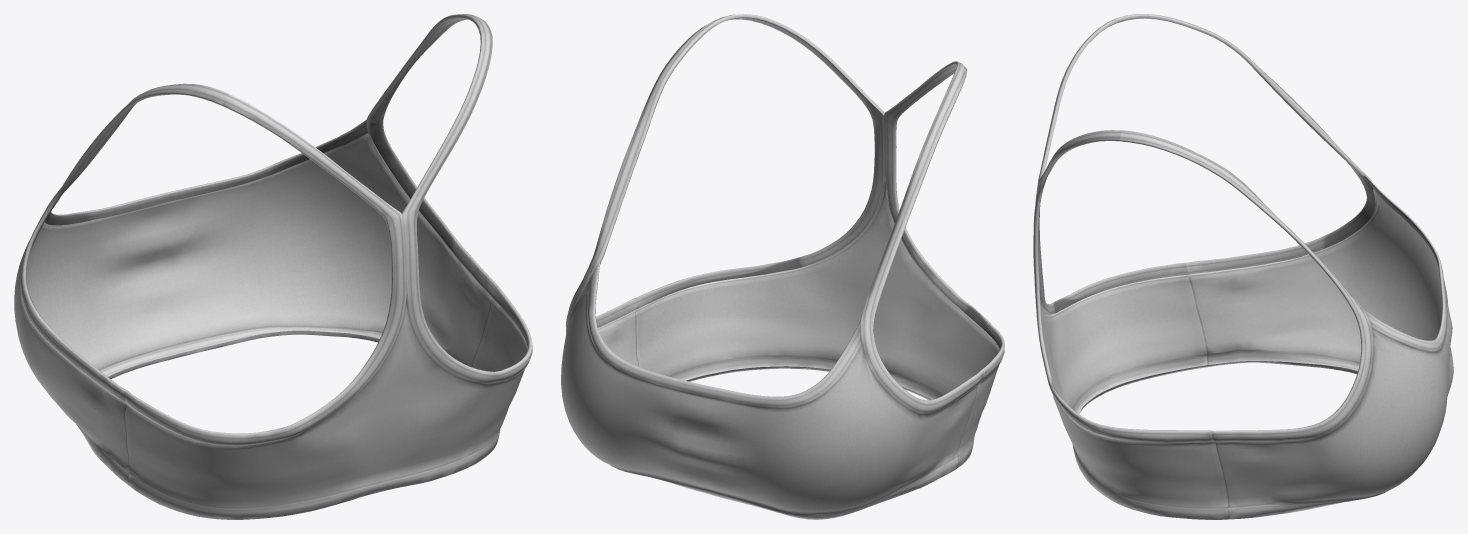
File: small_tank_top_white.glb
The picture shows the model from 3 angles, left to right: view 1: azimuth 30°, elevation 25°; view 2: azimuth 150°, elevation 25°; view 3: azimuth 270°, elevation 25°; orthographic projection. The views are drawn at different scales.
Visible parts, largest first — view 1: Object_2; view 2: Object_2; view 3: Object_2.
Part boxes in pixels (<box>): Object_2: <box>14,14,532,519</box>; Object_2: <box>561,14,1004,519</box>; Object_2: <box>1033,14,1453,519</box>.
Bounding box in the file's own units: 0.2007 × 0.1975 × 0.2004.
Materials: 1 (1 with a texture image).
